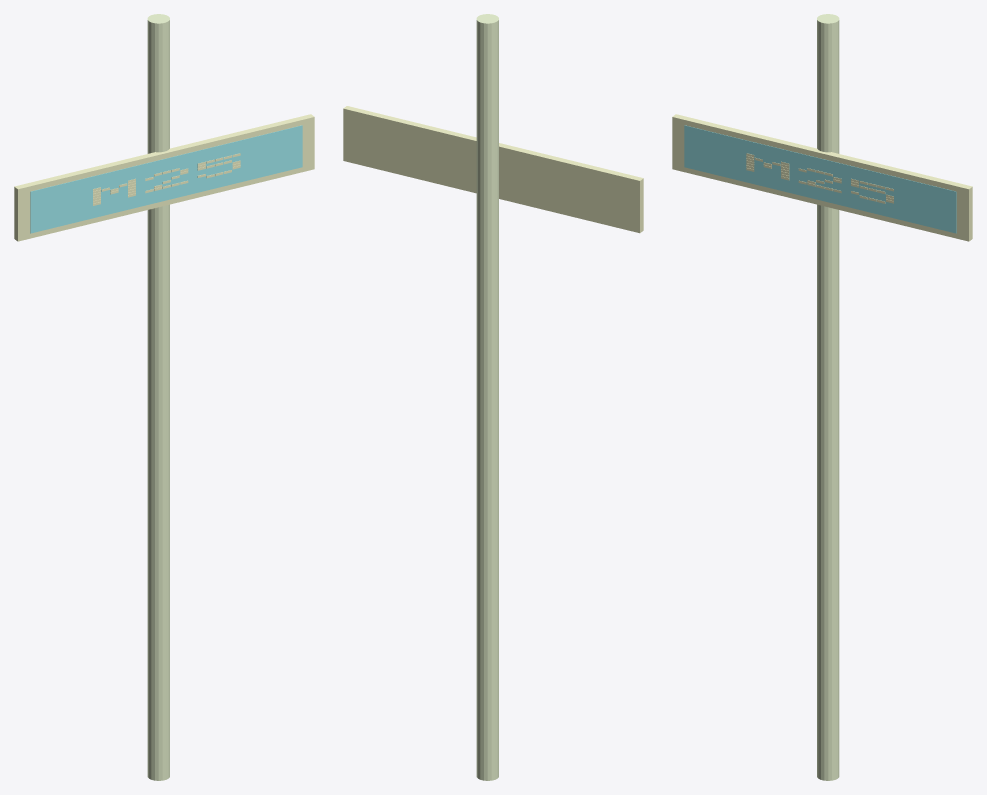
Rendered from sign_route_m25_shield.glb.
3 renders of one model, left to right at view 1: azimuth 30°, elevation 25°; view 2: azimuth 150°, elevation 25°; view 3: azimuth 330°, elevation 25°, orthographic.
Parts seen in each view (by area): view 1: pole, layer_1_00, plate_base_00; view 2: pole, plate_base_00; view 3: pole, layer_1_00, plate_base_00.
Part boxes in pixels (left/top/right/bottom): pole: left=147, top=14, right=169, bottom=780; layer_1_00: left=30, top=125, right=302, bottom=233; plate_base_00: left=14, top=114, right=314, bottom=241; pole: left=476, top=14, right=498, bottom=780; plate_base_00: left=343, top=106, right=643, bottom=233; pole: left=817, top=14, right=839, bottom=780; layer_1_00: left=684, top=125, right=956, bottom=233; plate_base_00: left=672, top=114, right=972, bottom=241.
Size of the model in its own units: 0.9024 by 2.2 by 0.0725.
